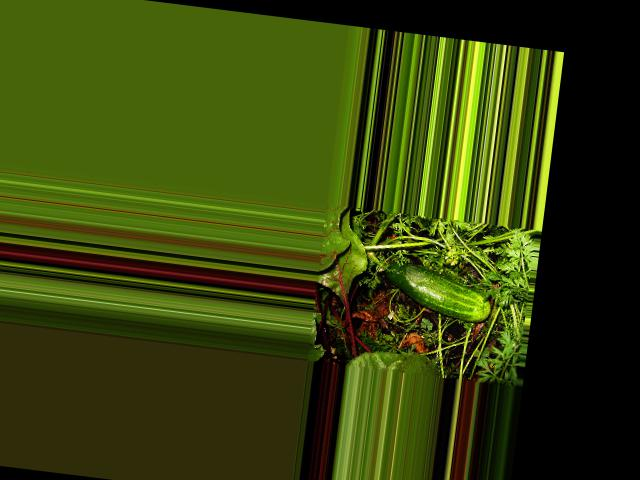cucumber: (379, 257, 493, 324)
